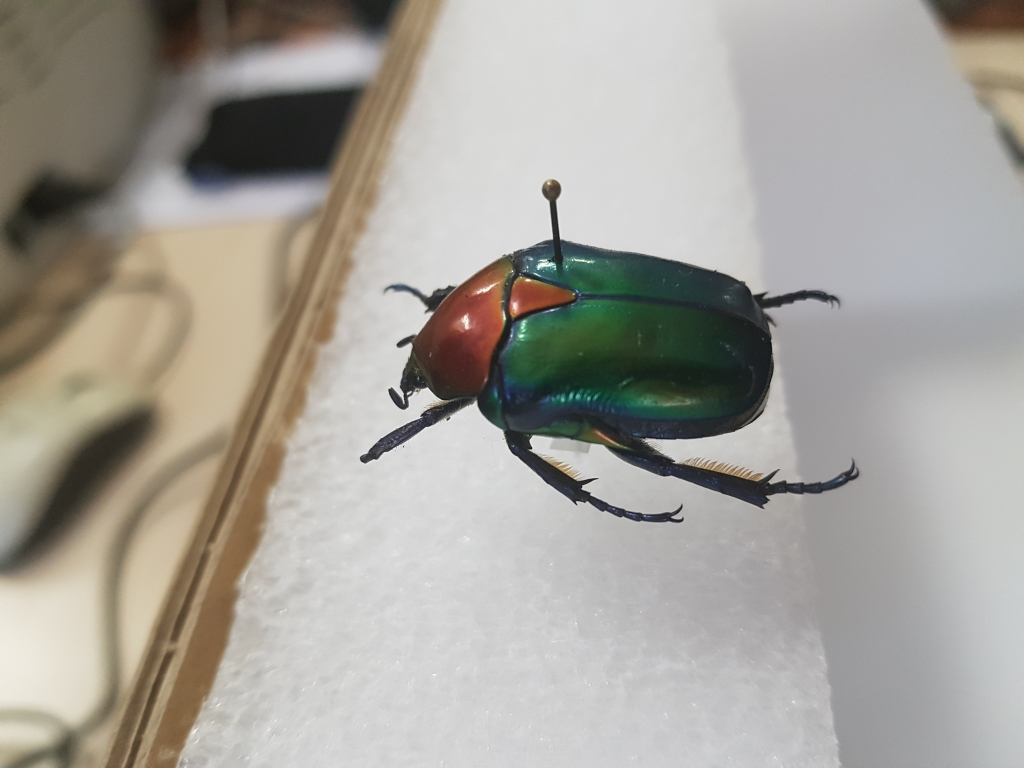Protaetia_speciosa_jousseliniw: (341, 230, 871, 530)
